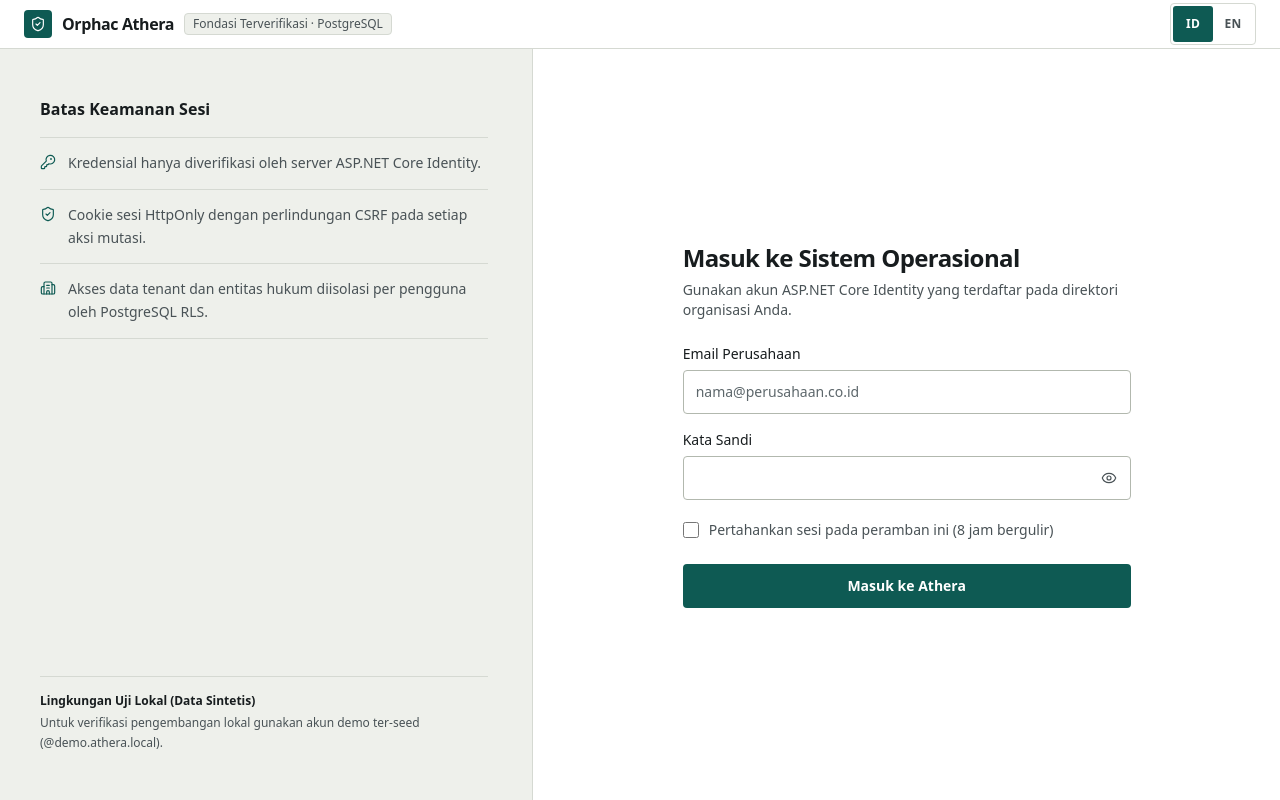
Test: S00 Formatting and Login UI › renders Indonesian default login copy, switches to English, and validates empty submit
Expected: the heading "Masuk ke Sistem Operasional" is shown, [683,240,1020,274]
Expected: the button "Masuk ke Athera" is shown, [683,564,1131,608]
Click the button with aria-label "English". click: x=1233, y=24
box: [1213,6,1253,42]
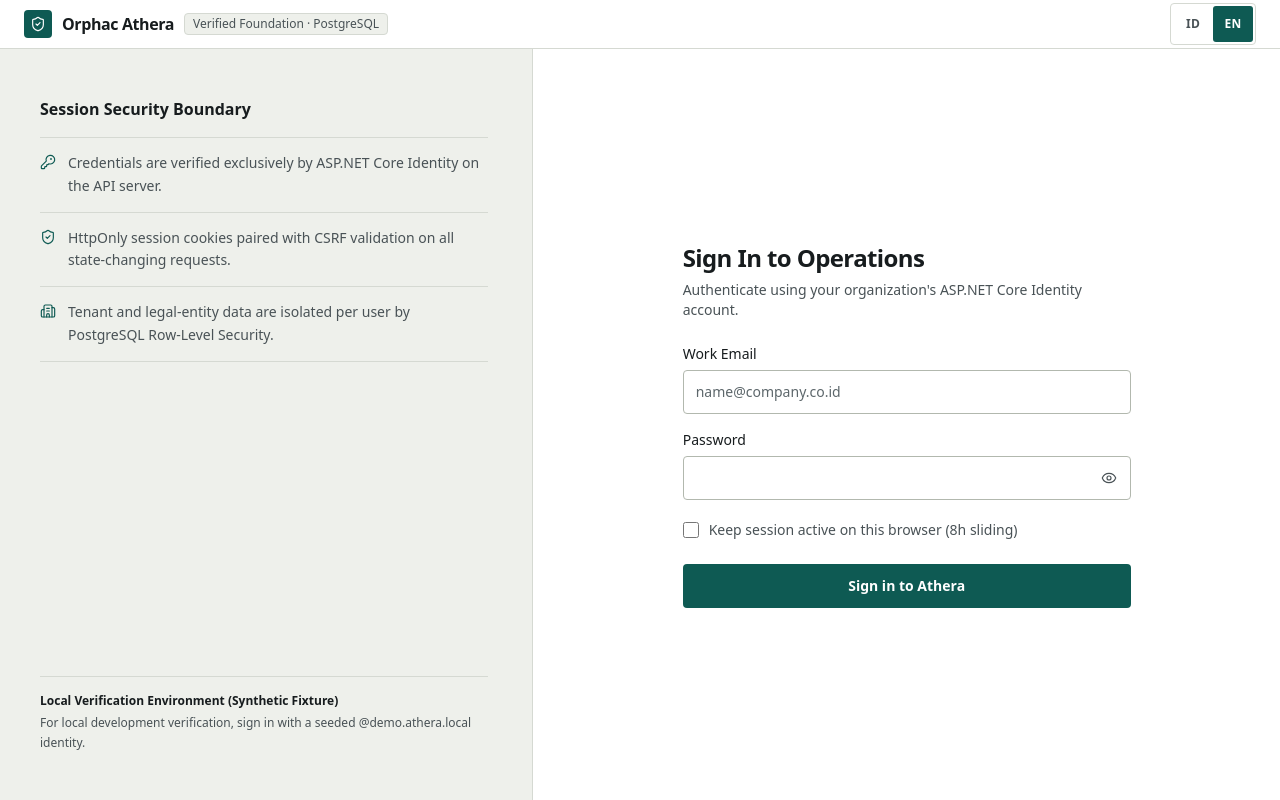
Expected: the heading "Sign In to Operations" is shown, [683,240,924,274]
Click the button "Sign in to Athera". click: x=907, y=586
box: [683,564,1131,608]
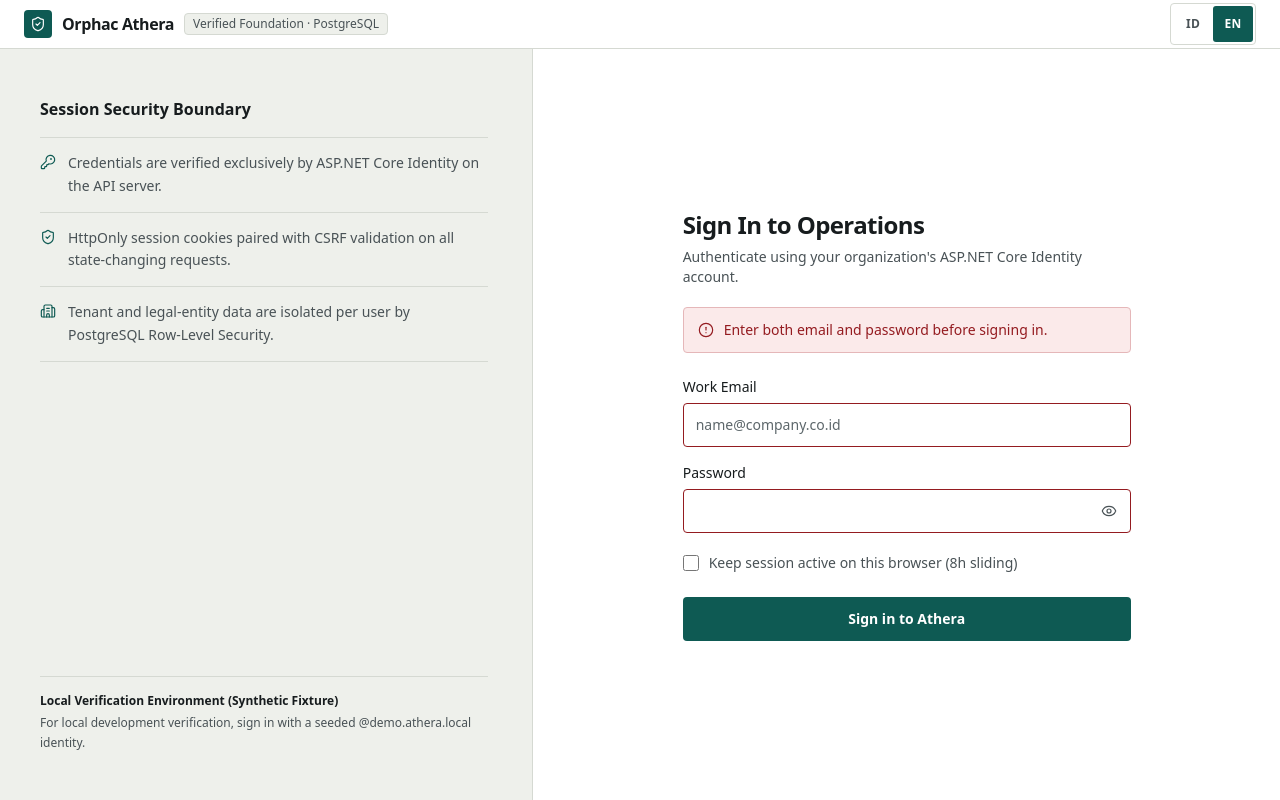
Expected: the message reads "Enter both email and password before signing in.", [724,320,1048,338]
